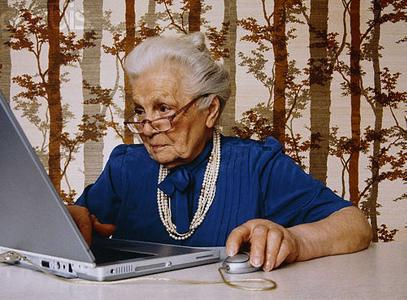person: (63, 37, 375, 273)
